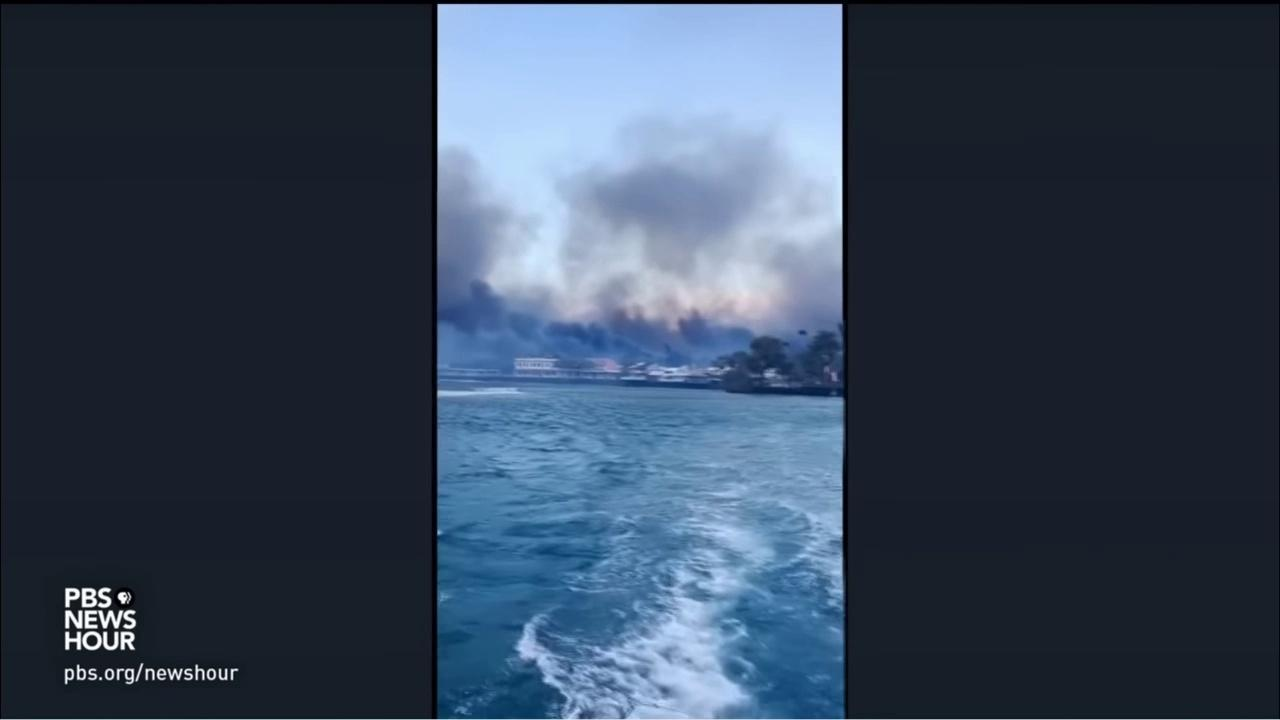smoke: (437, 70, 842, 370)
